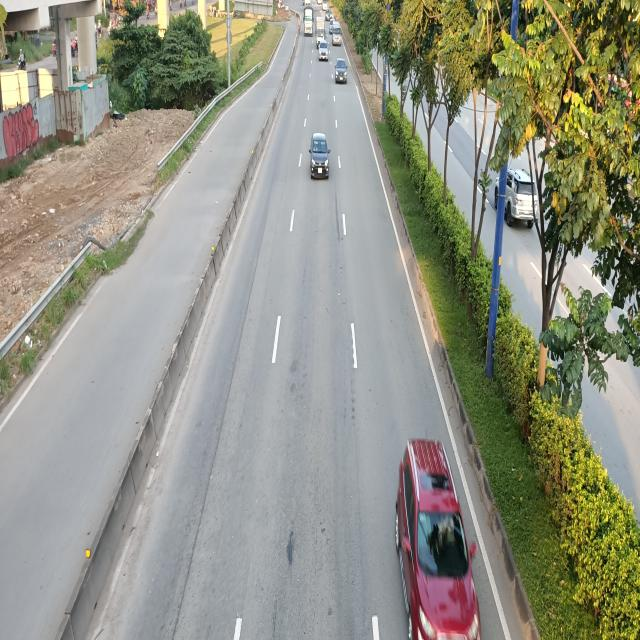car: (396, 440, 488, 640), (309, 134, 331, 181), (336, 59, 348, 85)
